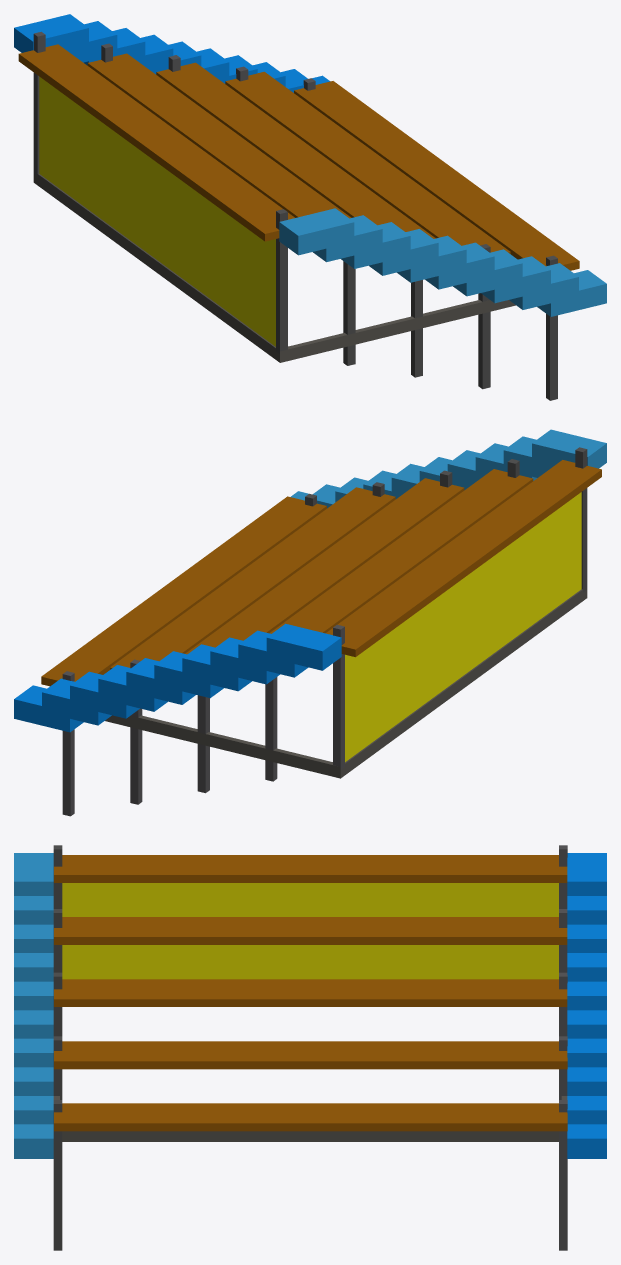
File: skameyka.fbx
3 views of the same model, one above another, from view 1: azimuth 30°, elevation 25°; view 2: azimuth 150°, elevation 25°; view 3: azimuth 270°, elevation 25° (orthographic). The views are drawn at different scales.
Parts seen in each view (by area): view 1: Cube.004, Plane, Cube.005, Cube.006, Cube.001, Cube, Cube.002, Cube.003; view 2: Cube.004, Plane, Cube.006, Cube.005, Cube.003, Cube, Cube.002, Cube.001; view 3: Cube.004, Plane, Cube.005, Cube.006, Cube, Cube.001, Cube.003.
Boxes of the visible parts, x1,y1,x2,y2 form: Cube.004: (18, 44, 579, 270); Plane: (39, 76, 275, 346); Cube.005: (279, 208, 606, 316); Cube.006: (14, 14, 330, 92); Cube.001: (276, 209, 557, 400); Cube: (33, 174, 290, 362); Cube.002: (288, 300, 515, 360); Cube.003: (33, 31, 315, 176); Cube.004: (41, 460, 601, 686); Plane: (345, 492, 581, 761); Cube.006: (14, 623, 341, 732); Cube.005: (291, 429, 606, 508); Cube.003: (62, 624, 344, 816); Cube: (329, 589, 587, 778); Cube.002: (105, 715, 332, 775); Cube.001: (305, 447, 587, 592); Cube.004: (54, 855, 567, 1131); Plane: (62, 883, 558, 979); Cube.005: (14, 853, 53, 1158); Cube.006: (567, 853, 606, 1158); Cube: (62, 1131, 558, 1141); Cube.001: (53, 845, 62, 1250); Cube.003: (559, 845, 567, 1250).
Bounding box in the file's own units: 1959 × 1466 × 2989.
